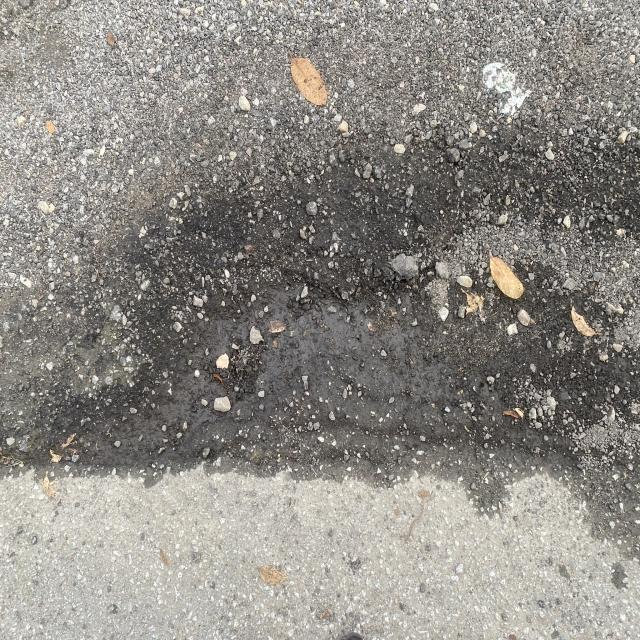Pothole: (53, 247, 530, 512)
